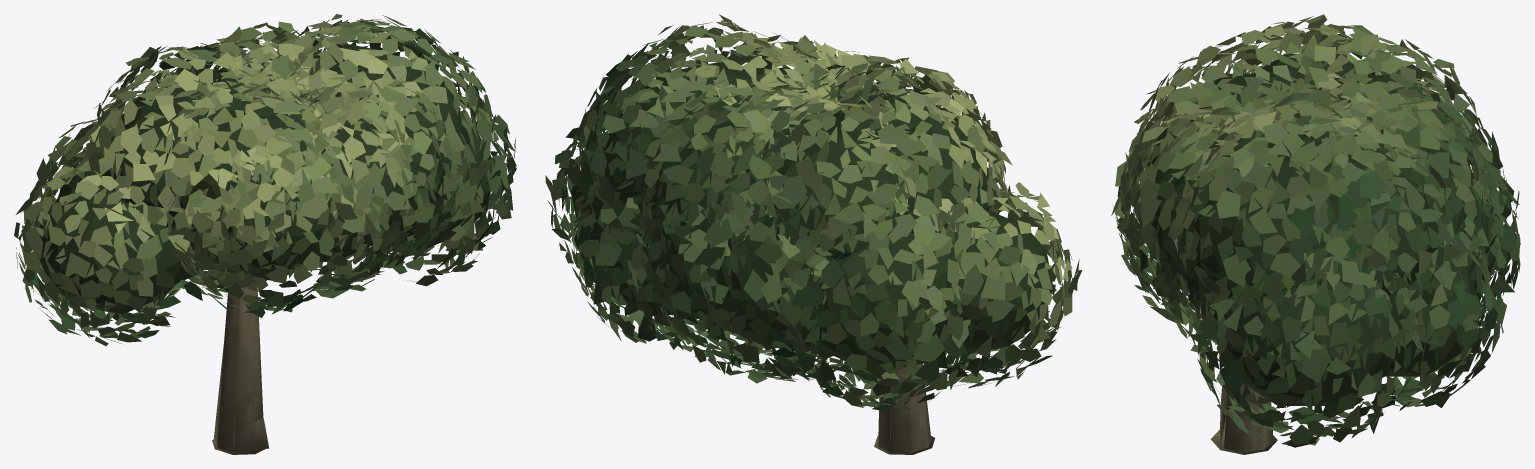
Rendered from tree_big_hd.glb.
The picture shows the model from 3 angles, left to right: view 1: azimuth 30°, elevation 25°; view 2: azimuth 150°, elevation 25°; view 3: azimuth 270°, elevation 25°; orthographic projection. The views are drawn at different scales.
Parts seen in each view (by area): view 1: tree_big; view 2: tree_big; view 3: tree_big.
Boxes of the visible parts, x1,y1,x2,y2 form: tree_big: [14, 14, 516, 454]; tree_big: [545, 14, 1082, 454]; tree_big: [1111, 14, 1520, 454].
Size of the model in its own units: 3.5 by 2.55 by 2.3.
1 material, 1 textured.
